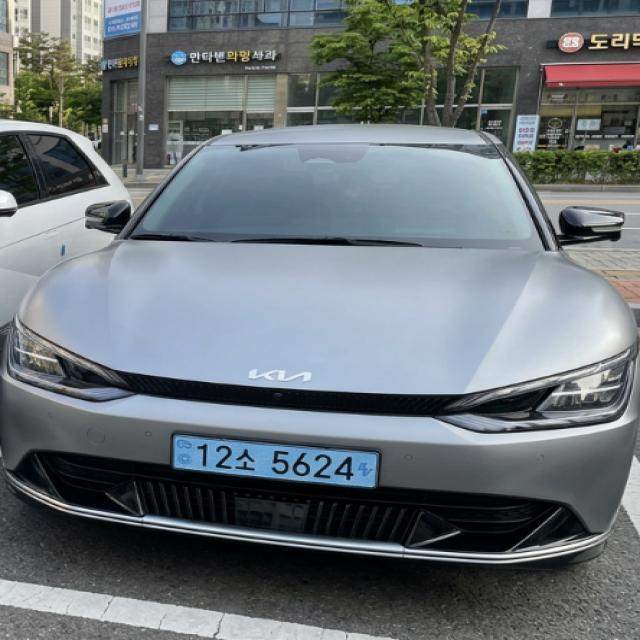car: (162, 426, 402, 501)
carev: (356, 444, 382, 498), (169, 431, 195, 474)
